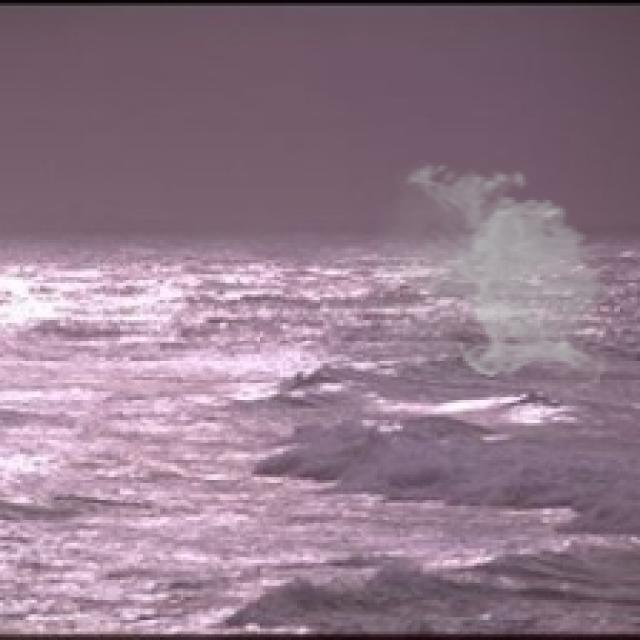smoke: (377, 157, 614, 383)
